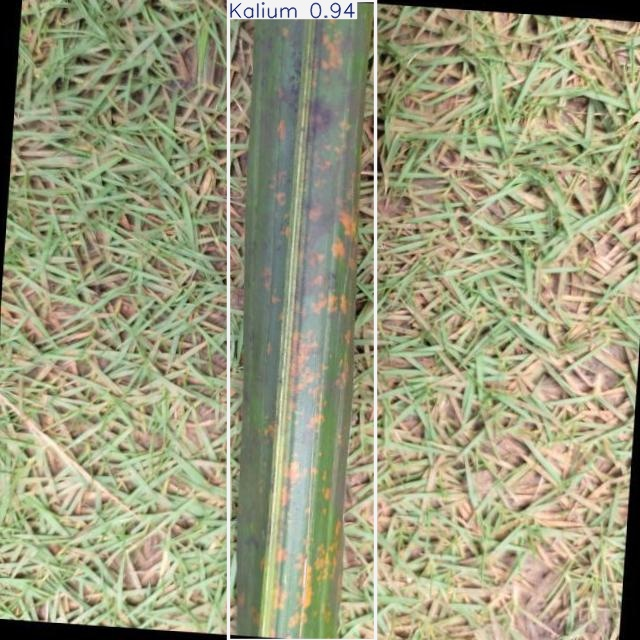Kalium: (228, 1, 375, 640)
